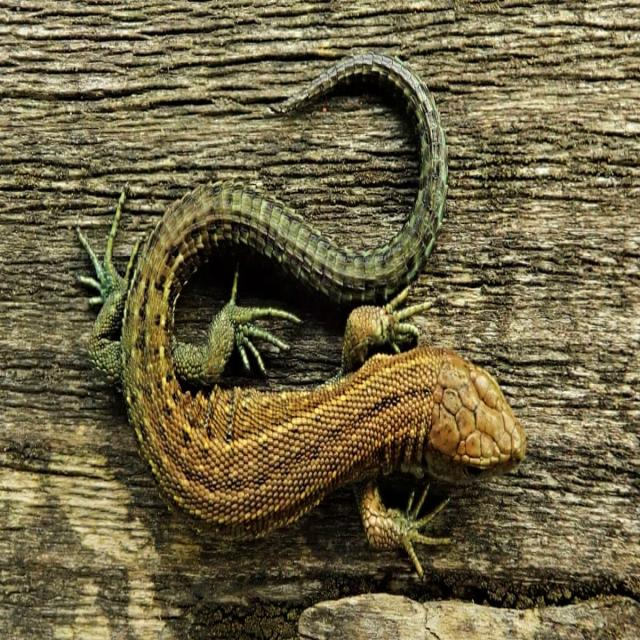lizard: (76, 53, 526, 578)
